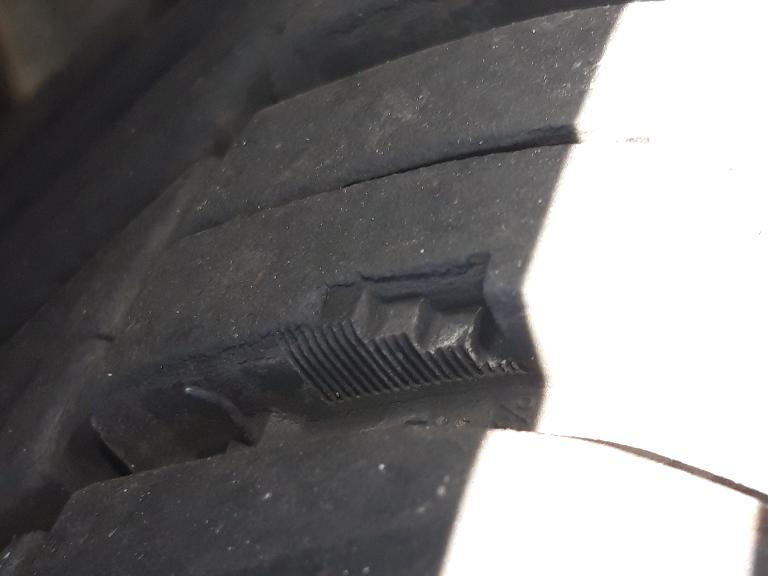temoin:80: (268, 244, 531, 414)
